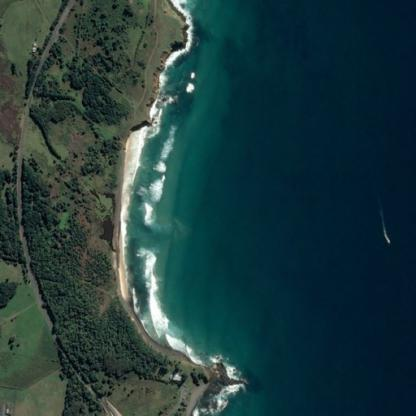ship: (387, 239, 389, 243)
